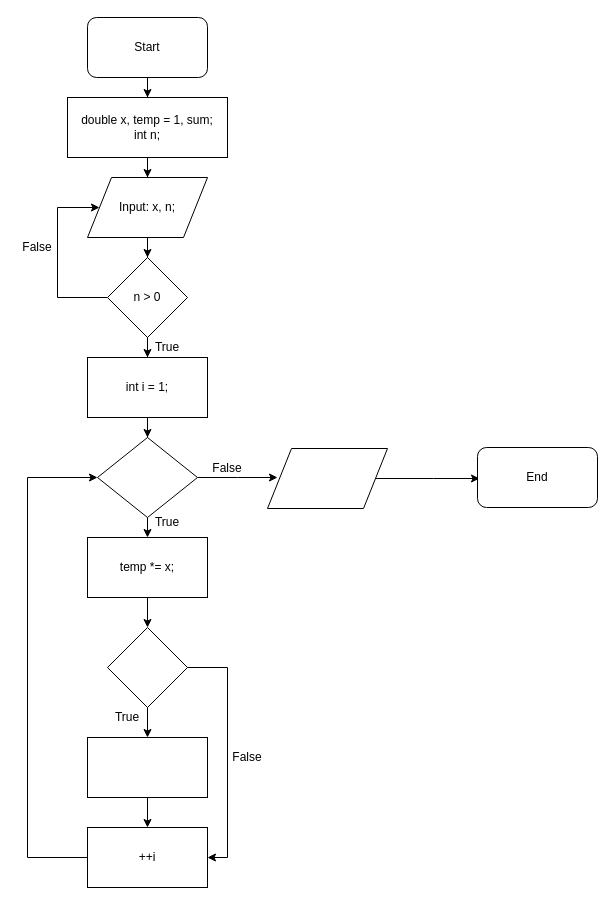
This 615x905 diagram has some shape labels left out. The centre of each missing label's shape, as x and y in pixels:
"(i % 2) != 0" goes at (x=147, y=667).
"i <= (2*n + 1)" goes at (x=147, y=477).
"Output: sum;" goes at (x=327, y=478).
"sum += temp;" goes at (x=147, y=767).
